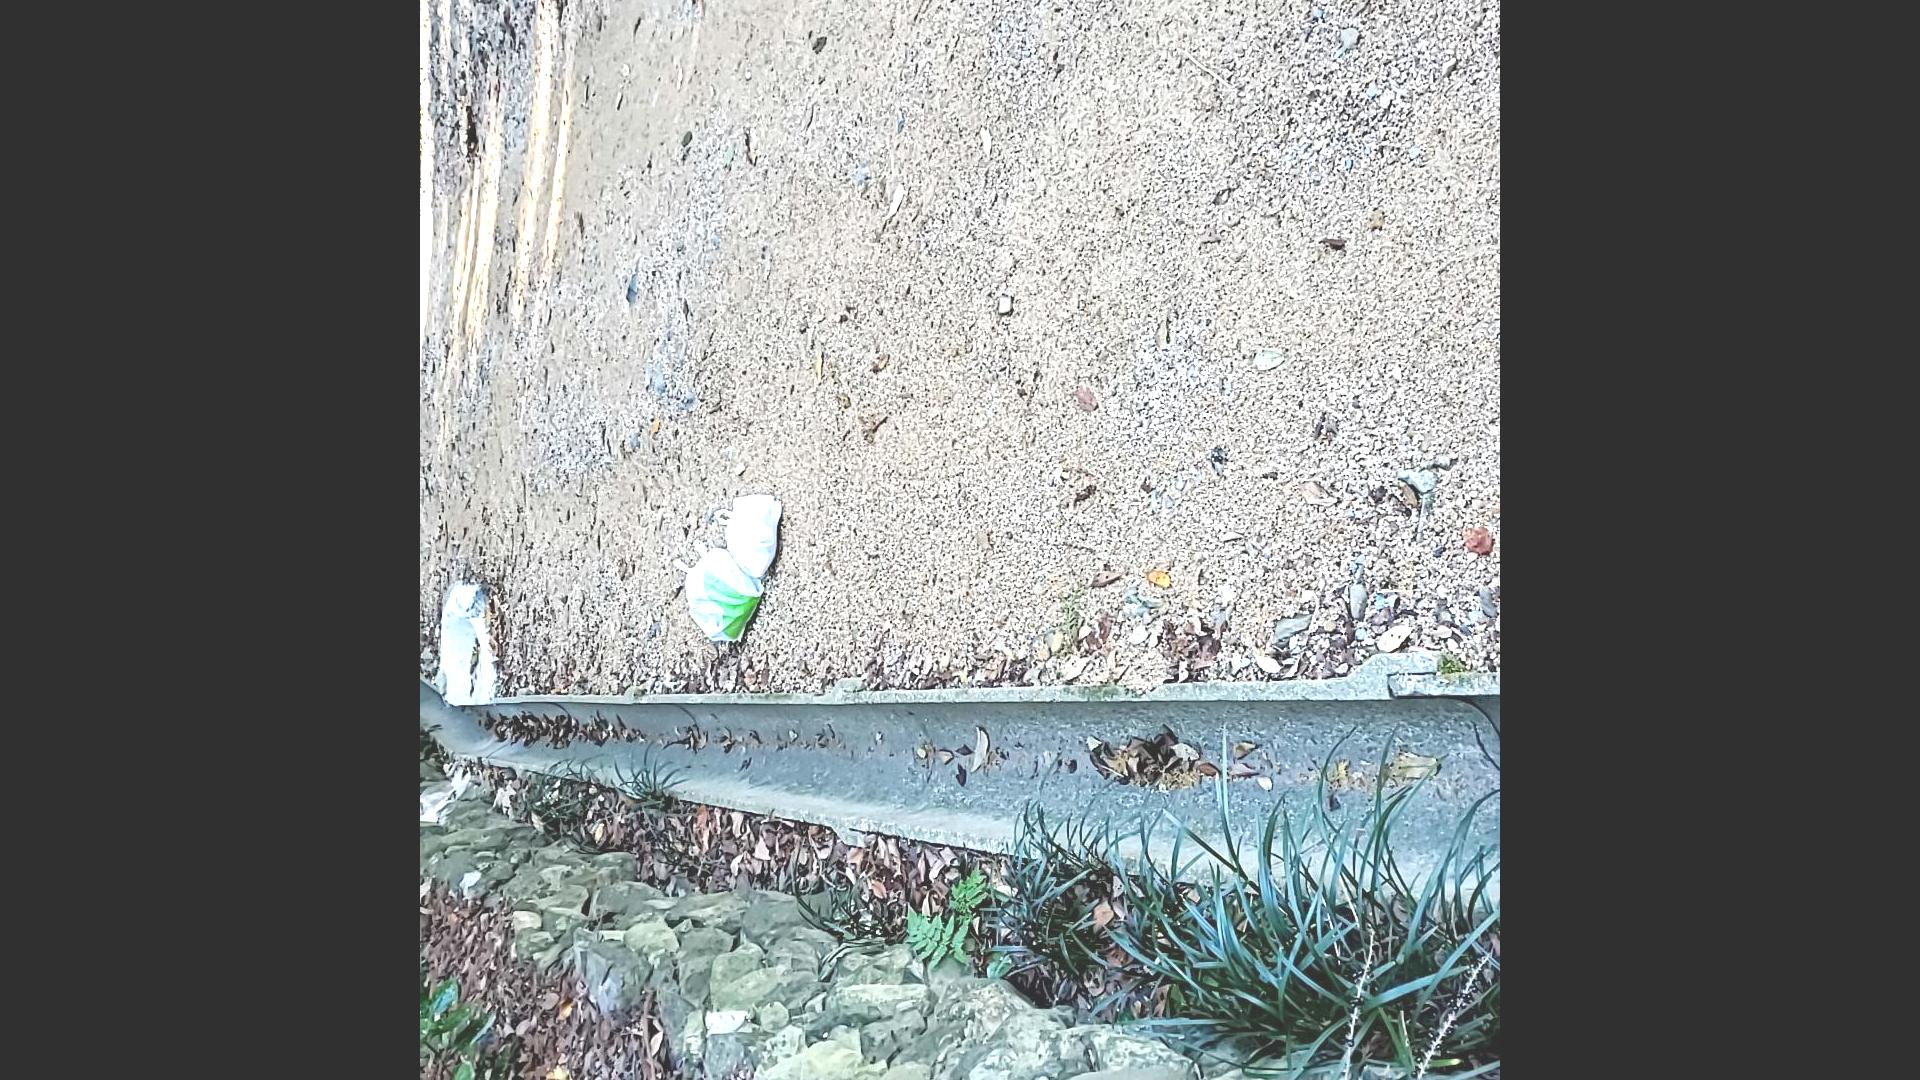white_bag: (667, 538, 767, 646), (709, 485, 787, 585)
